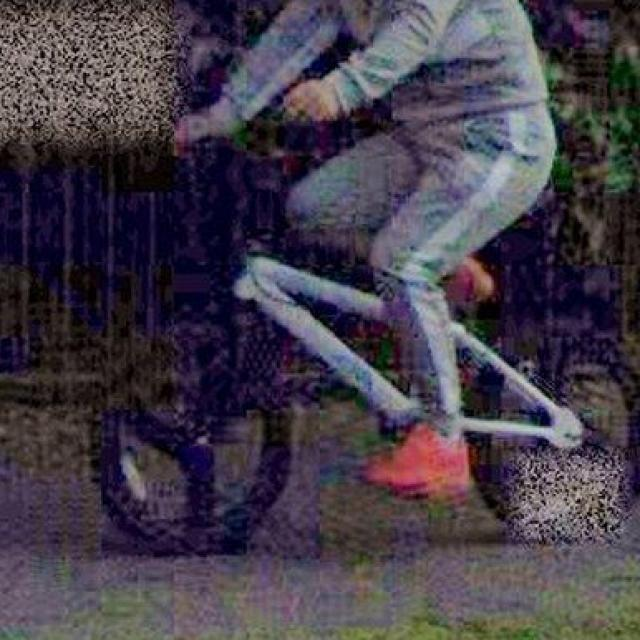bicycle: (80, 56, 634, 590)
